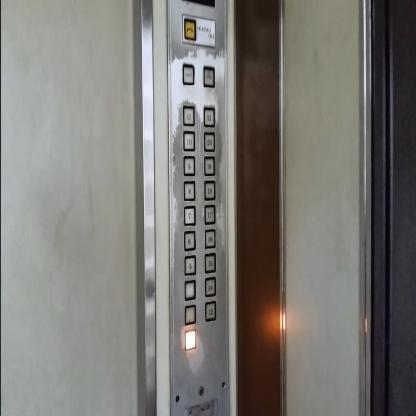10: (183, 130, 195, 152)
11: (183, 105, 195, 126)
114: (204, 276, 216, 297)
12: (204, 300, 216, 322)
15: (204, 252, 216, 274)
16: (204, 228, 216, 249)
17: (204, 203, 216, 224)
18: (204, 180, 215, 200)
19: (203, 154, 216, 176)
20: (204, 130, 216, 152)
21: (203, 106, 215, 127)
5: (184, 255, 196, 276)
6: (184, 230, 196, 251)
7: (184, 205, 196, 226)
8: (183, 180, 195, 201)
9: (183, 154, 195, 176)
call: (184, 15, 196, 40)
empty: (184, 304, 196, 326), (185, 328, 196, 350), (184, 280, 196, 300)
keyhole: (197, 385, 205, 397)
text_blur: (182, 62, 195, 85), (203, 64, 214, 87)
